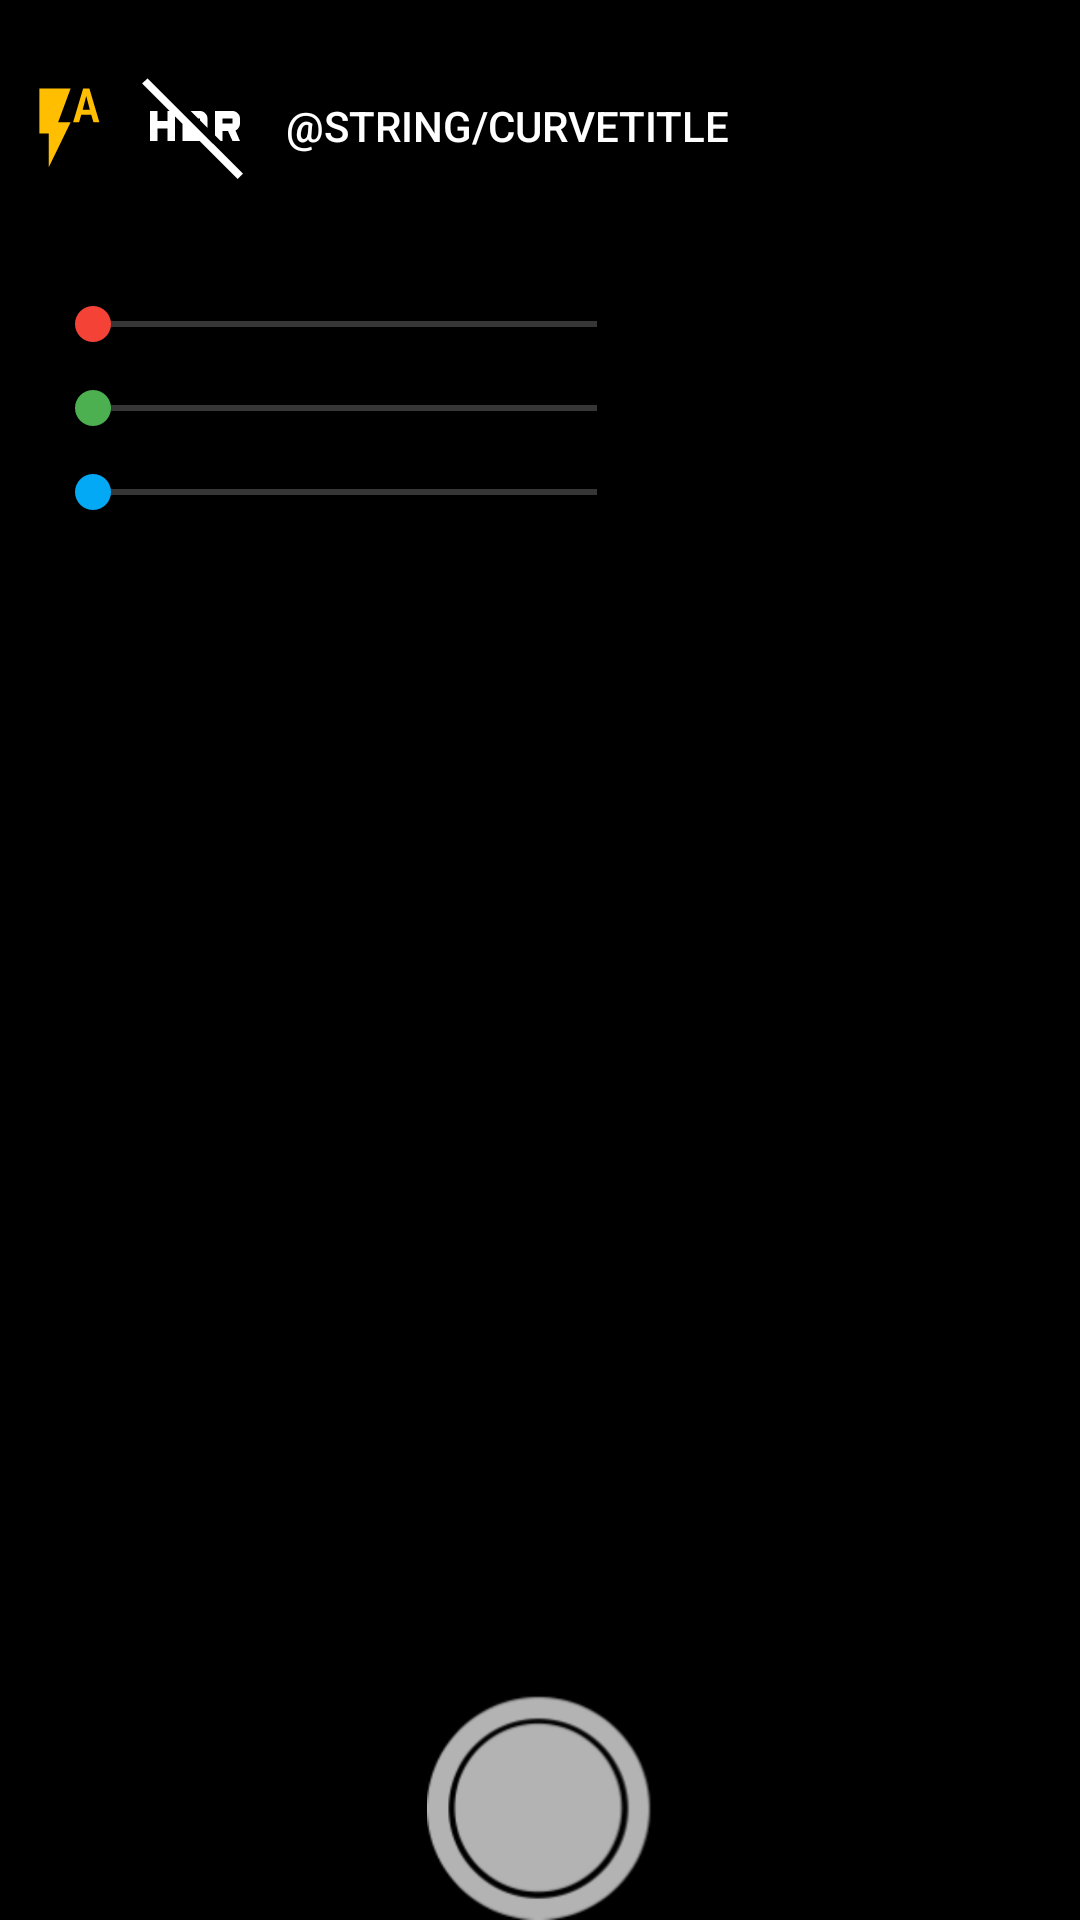

Icons on this 1080*1920 Android screen, each with the point to tap as (x=x, y=y):
Change flash: (x=69, y=127)
Change HDR state: (x=192, y=128)
Take Photo: (x=539, y=1808)
